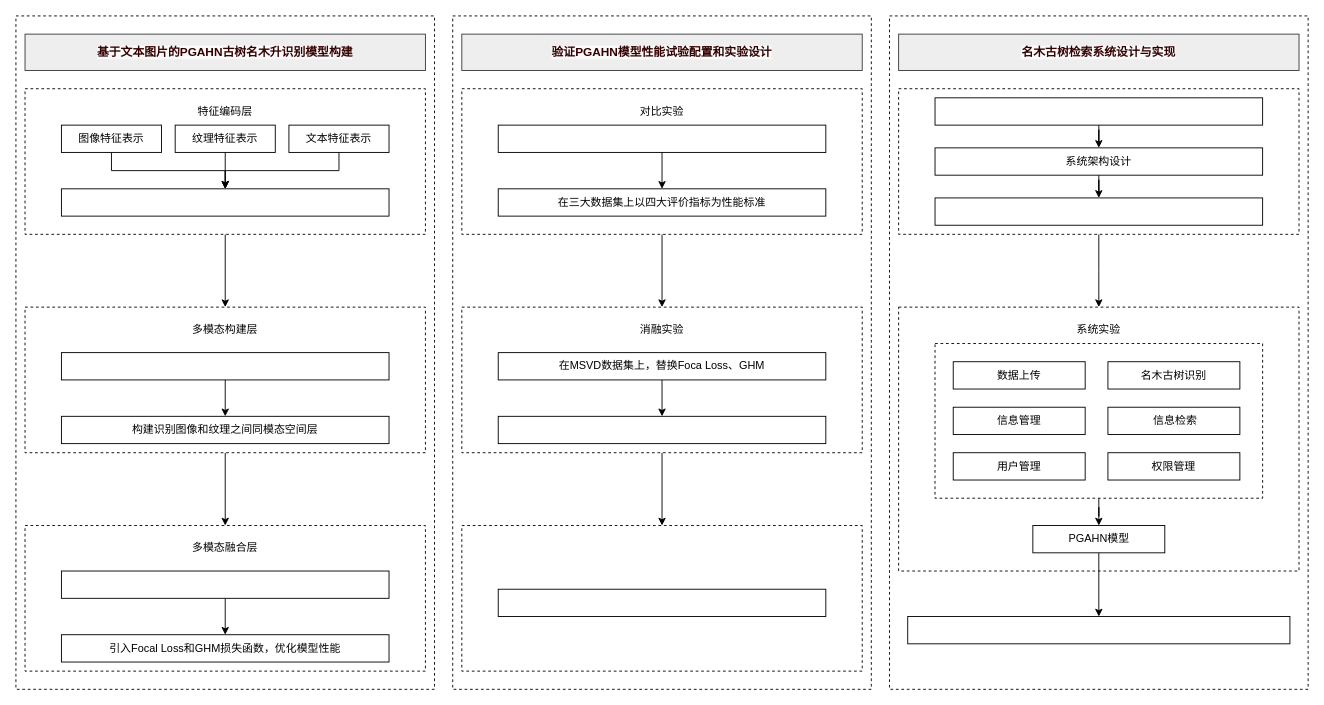
The diagram is 1324 pixels wide and 705 high, and some of its shapes have lost their labels. The centre of each missing label's shape, as x and y in pixels:
"使用全连接层，分别进行向量维度调整" belongs at point 225,202.
"功能性与非功能性系统测试" belongs at point 1098,630.
"在MSVD数据集上，替换CBAM" belongs at point 661,429.
"在三大数据集数据集上，确定模型的最佳参数配置" belongs at point 661,602.
"引入CBAM注意力机制，增强网络对名木古树关键特征的提取能力" belongs at point 225,584.
"构建识别文本和图像之间跨模态空间层" belongs at point 225,366.
"系统详细设计以及数据库设计" belongs at point 1098,211.
"系统需求设计" belongs at point 1098,111.
"选取四个基准模型与PGAHN构建对比实验" belongs at point 661,138.
